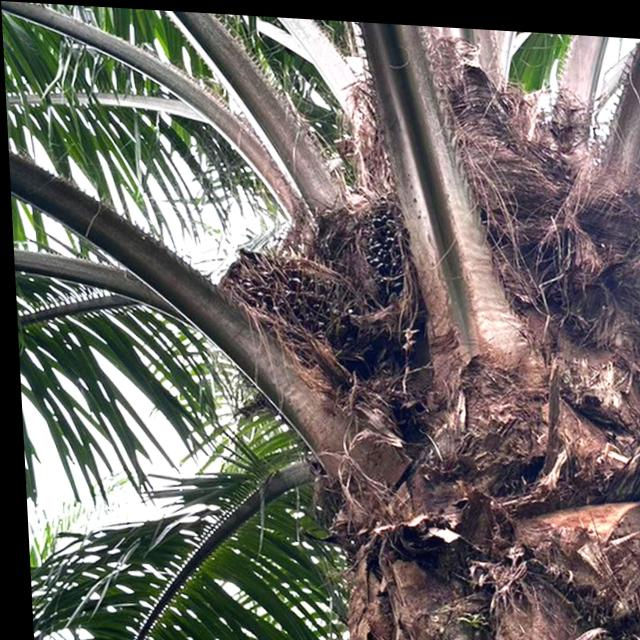ripe: (222, 244, 385, 363), (347, 178, 432, 324)
